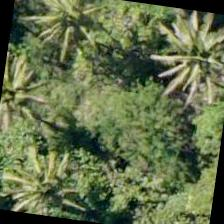Kelapa_Sawit: (138, 7, 223, 109), (7, 139, 106, 223), (22, 0, 123, 75), (0, 52, 62, 150)
